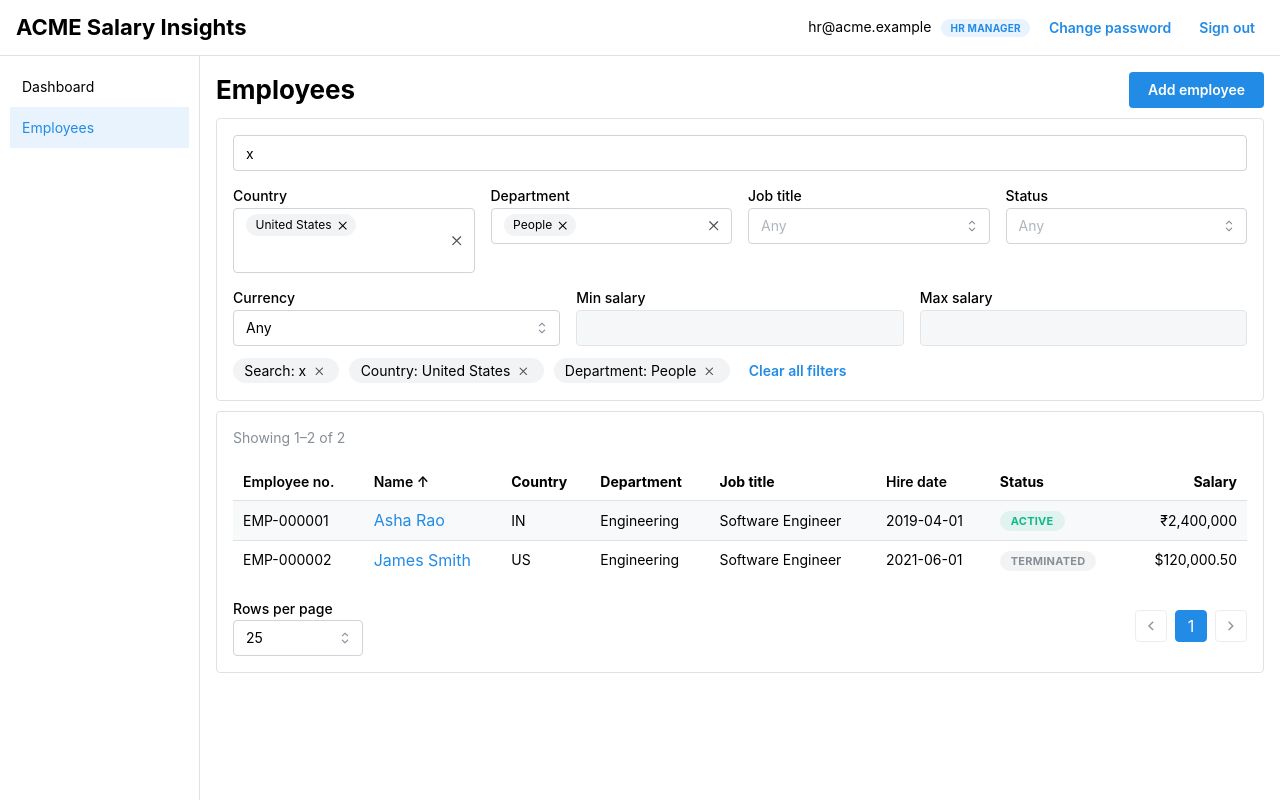
Scenario: Employee directory › search and filters › clears every filter at once
Expected: the table named "Employees" is shown, [233,464,1247,580]
Click the button "Clear all filters": (798, 371) [740,358,856,384]
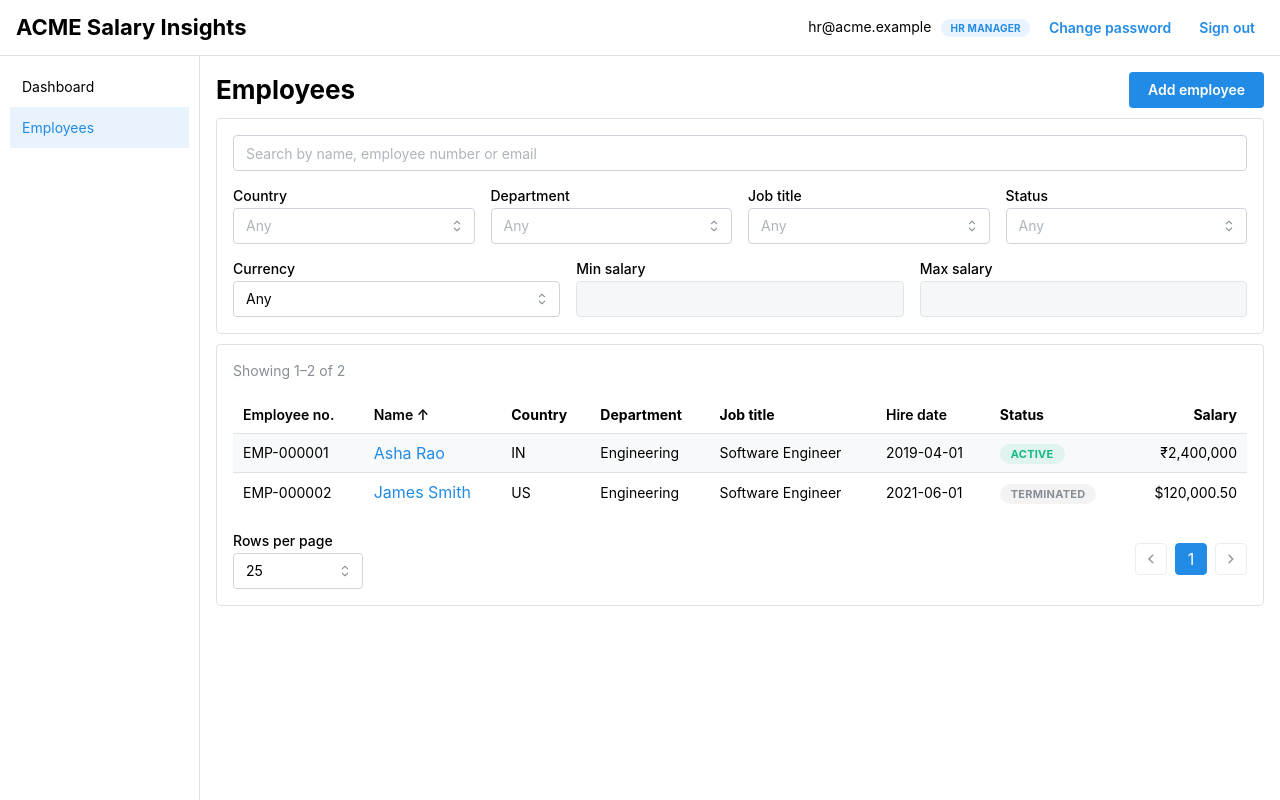
Expected: the search field named "Search employees" is empty, [233,135,1247,171]
